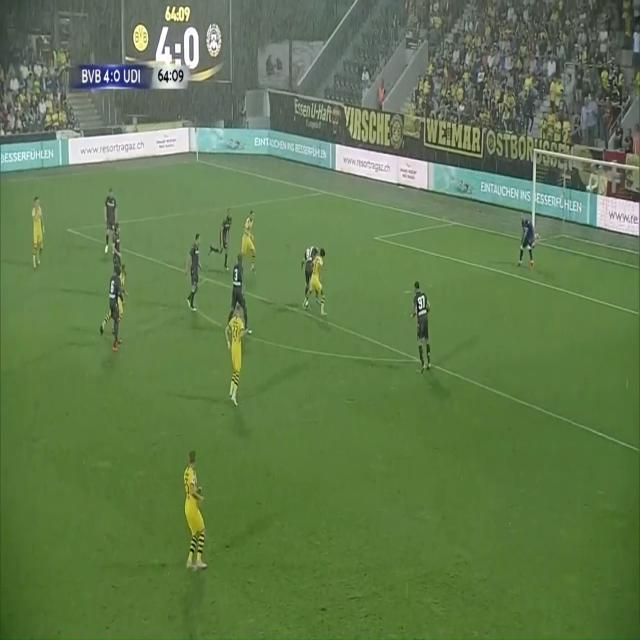goalkeeper: (513, 203, 536, 276)
player: (174, 433, 213, 578), (406, 279, 445, 389), (224, 303, 251, 415), (183, 230, 210, 323), (29, 189, 50, 285), (212, 204, 234, 280), (307, 253, 331, 318), (229, 253, 249, 330), (298, 244, 319, 317), (107, 268, 123, 362), (114, 260, 132, 340), (243, 209, 261, 280), (103, 186, 119, 251), (113, 219, 122, 276)
